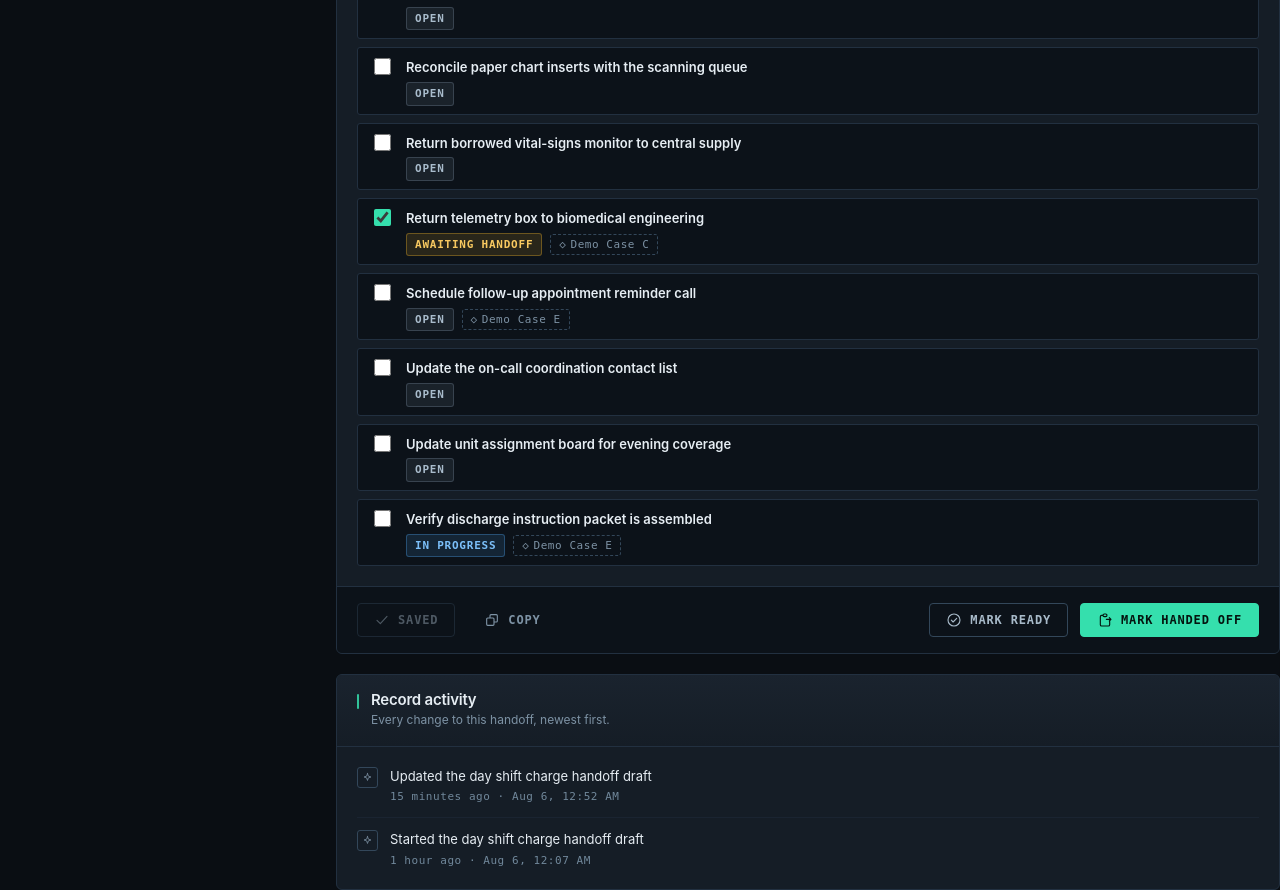
it: HandoffPage › marks a record handed off and locks it
The width and height of the screenshot is (1280, 890).
(page scrolled)
What coordinates should you click on to do the following:
click the button "Mark handed off"
I would click on:
 (1170, 620)
Its box is [1080,603,1259,637].
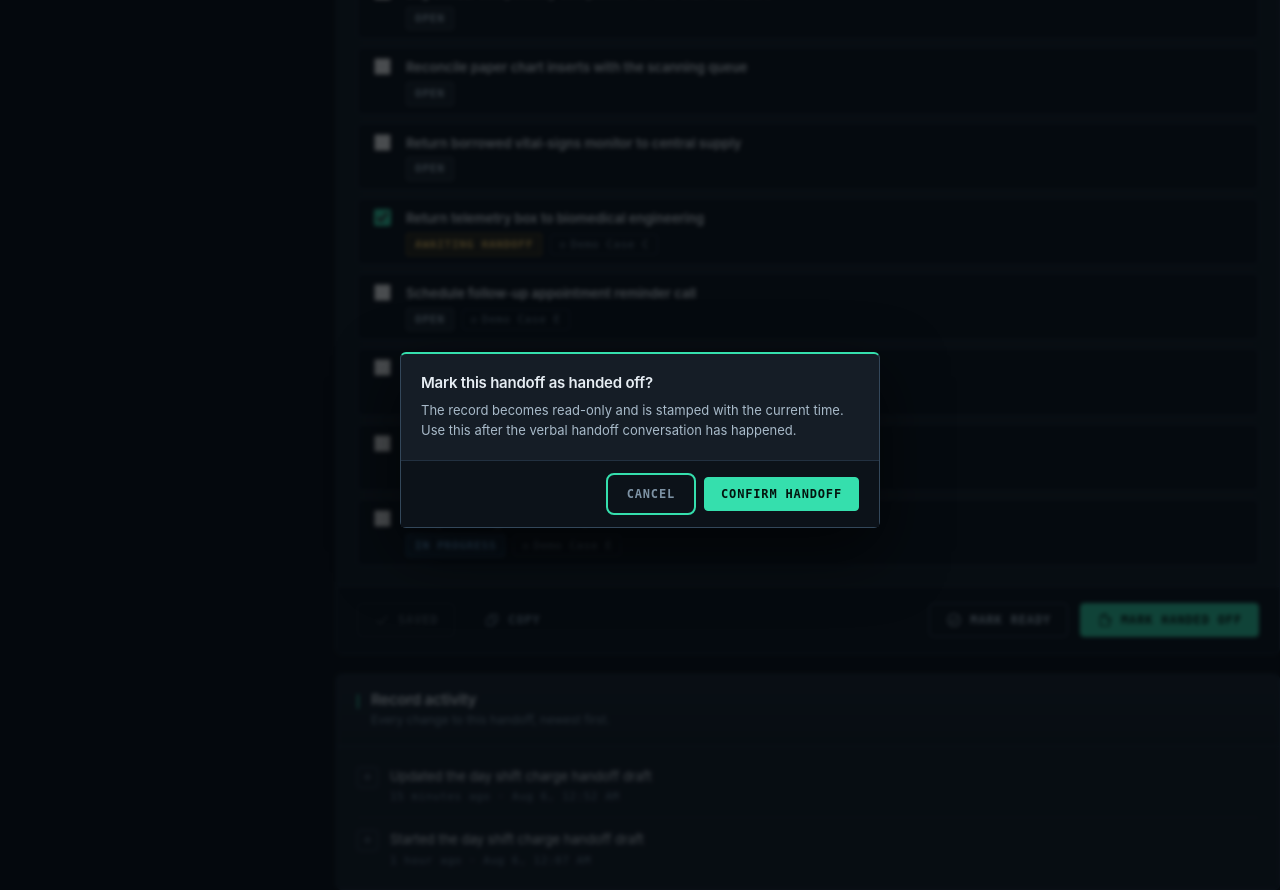
What coordinates should you click on to do the following:
click the button "Confirm handoff"
I would click on:
 (782, 494)
Its box is [704,477,859,511].
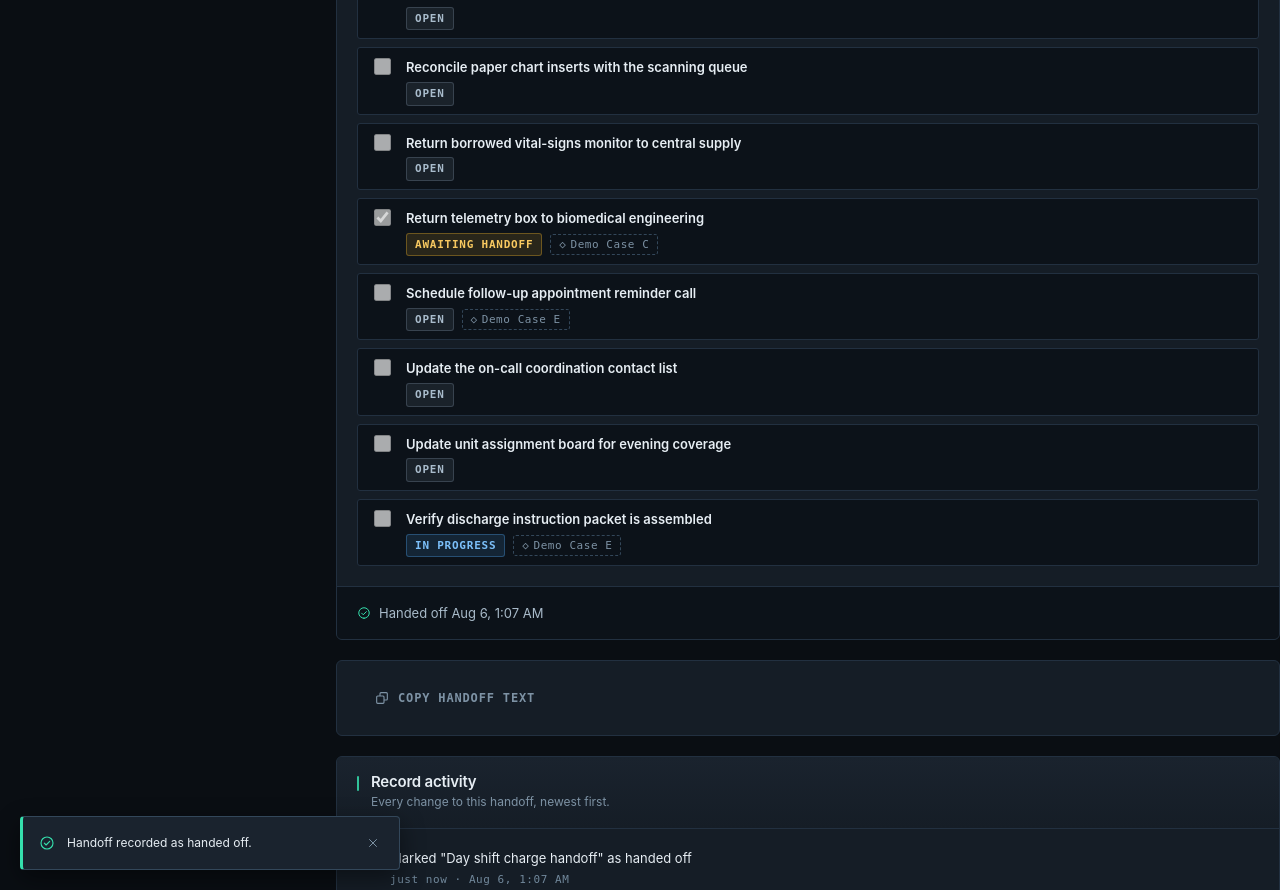
Check: the button "Mark handed off" is gone
Check: the button "Copy handoff text" is shown, box [357,682,552,716]
